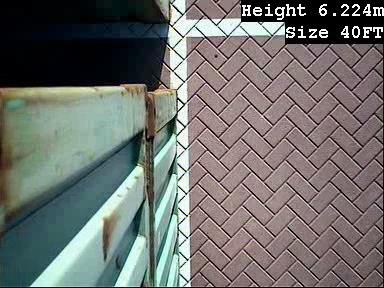groundmarker_2: (65, 53, 136, 110)
